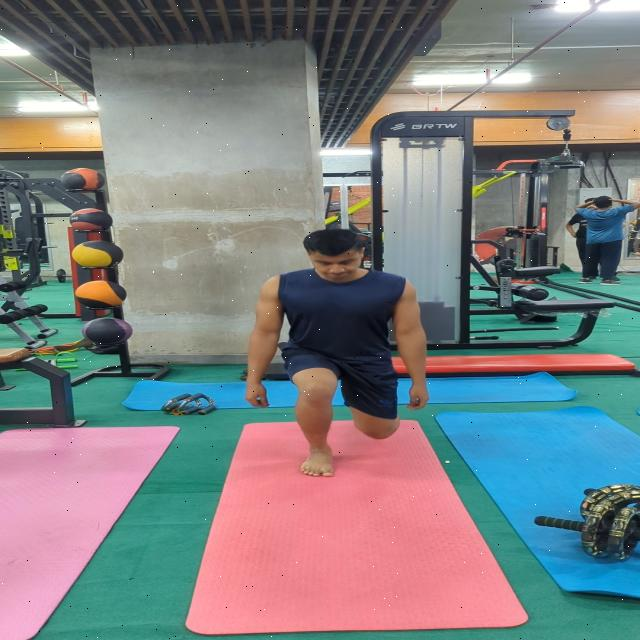Normal_Lunges: (239, 228, 432, 477)
